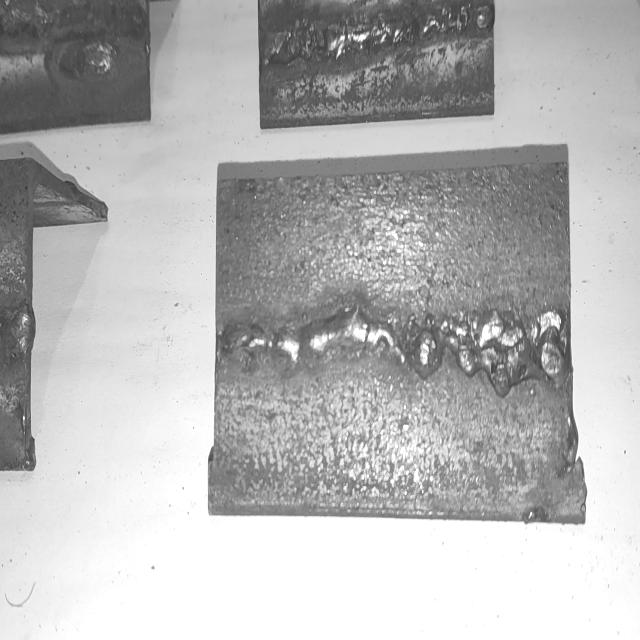Bad Weld: (222, 310, 570, 389)
Defect: (271, 6, 487, 59), (467, 293, 565, 405), (0, 0, 144, 67)
